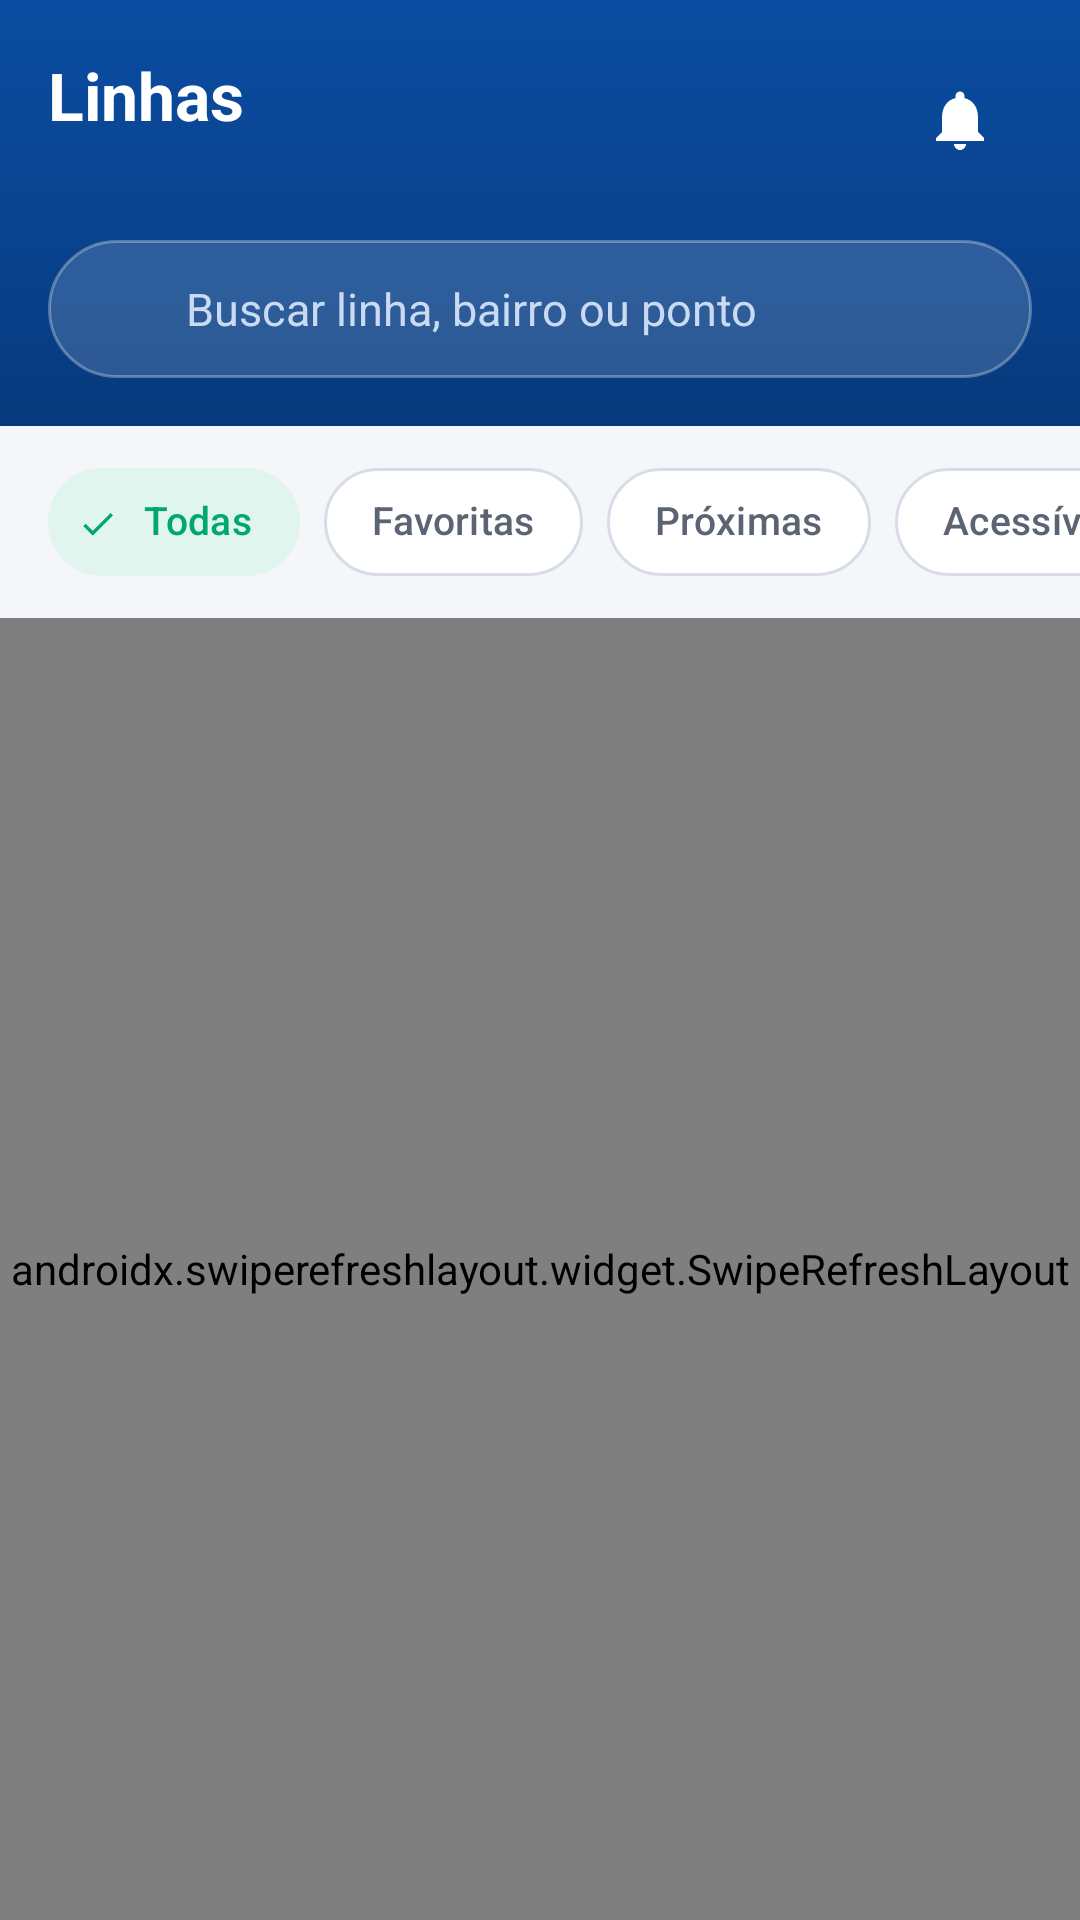

Icons on this 1080px x 1920px Android screen, each with its box as (x1, y1, x2, y2):
Avisos de operação: (936, 91, 984, 150)
